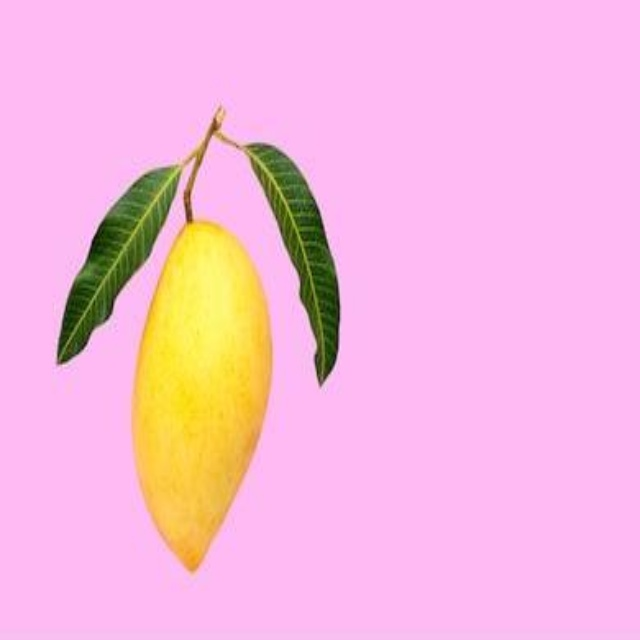mango: (134, 218, 279, 580)
